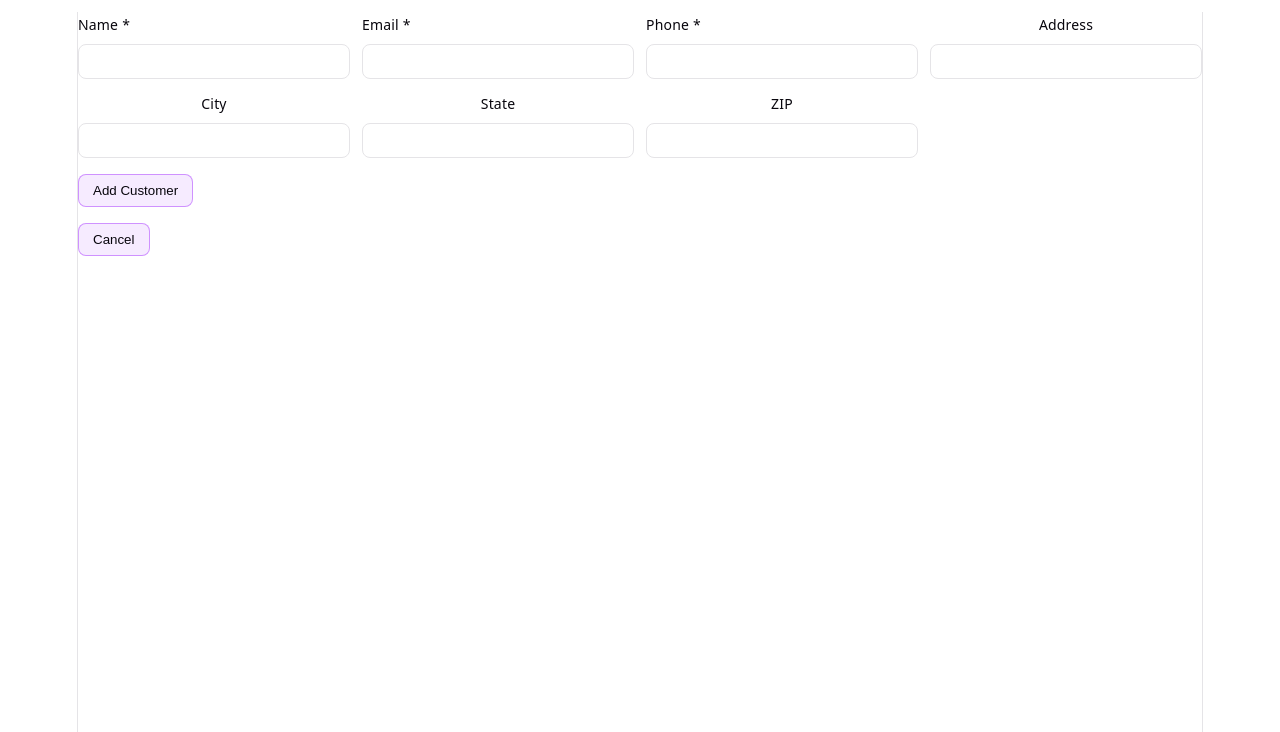
Scenario: CustomerForm › Name cannot contain numbers
In the field labelled "Name": (214, 62) x1=78 y1=44 x2=350 y2=79, type "Jane2"
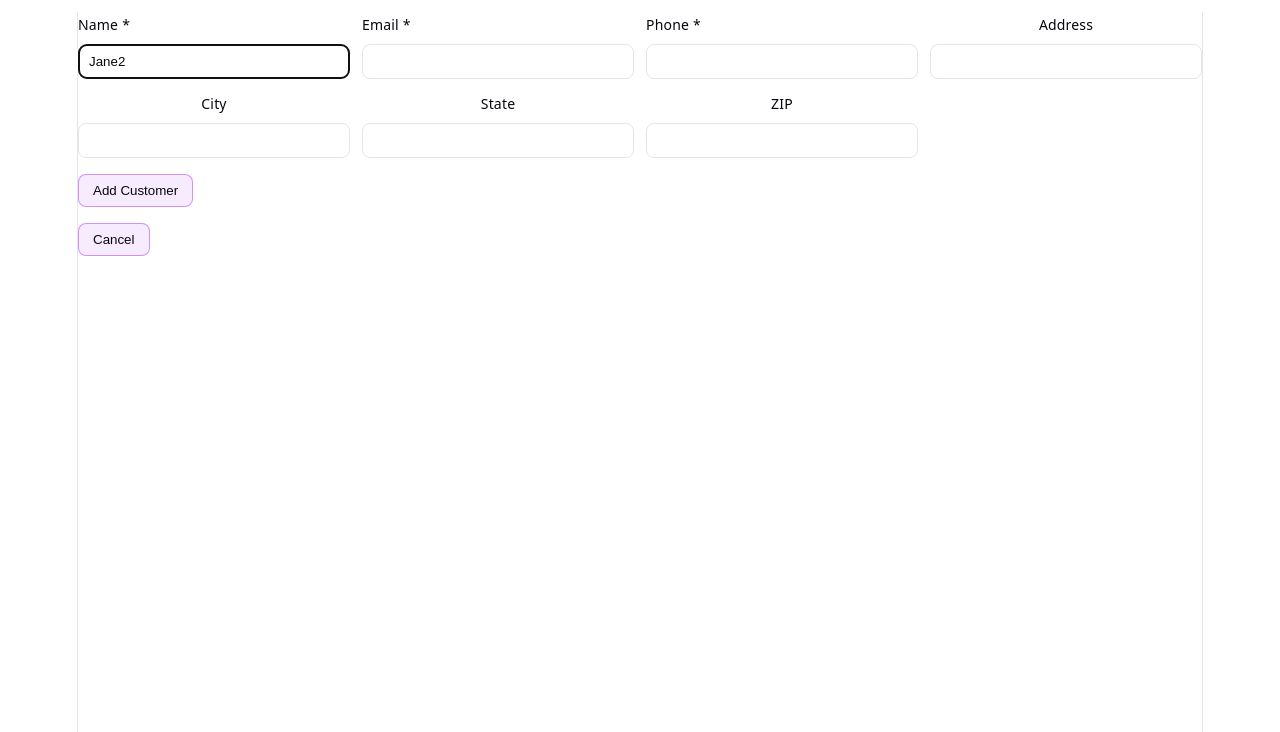
In the field labelled "Email": (498, 62) x1=362 y1=44 x2=634 y2=79, type "valid@example.com"
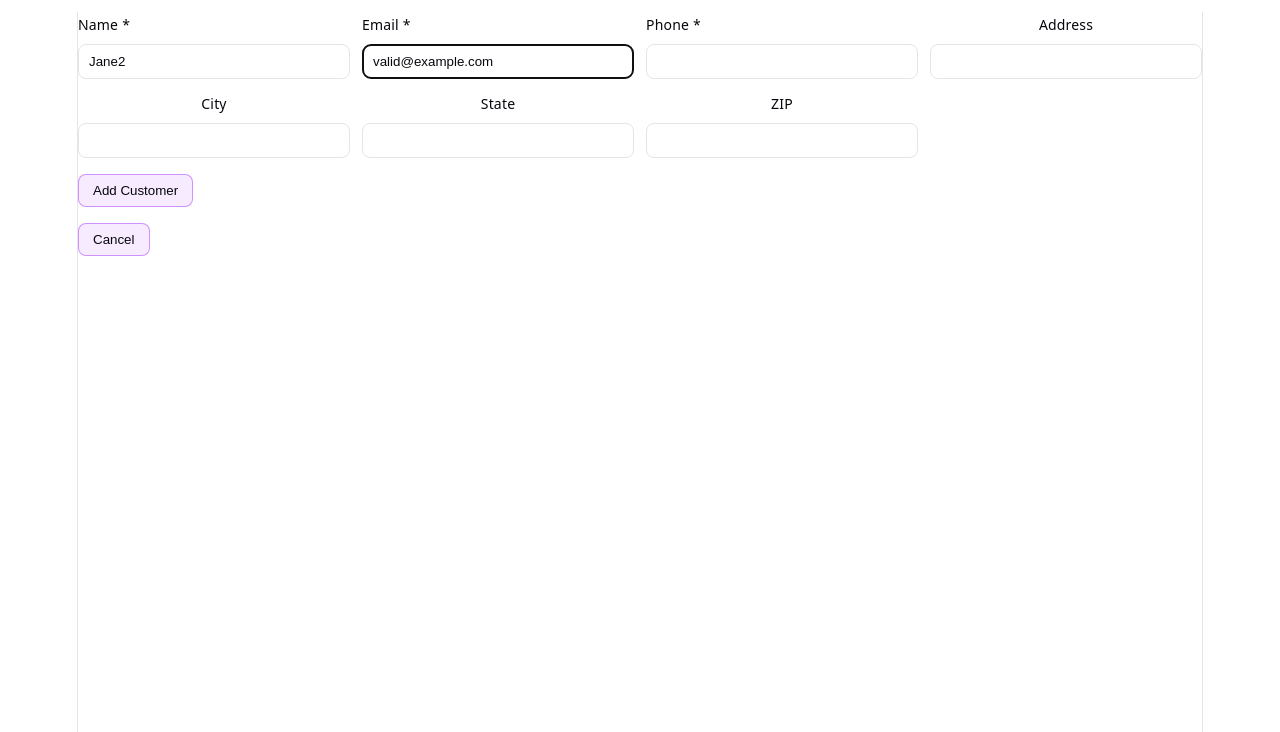
In the field labelled "Phone": (782, 62) x1=646 y1=44 x2=918 y2=79, type "555-123-4567"
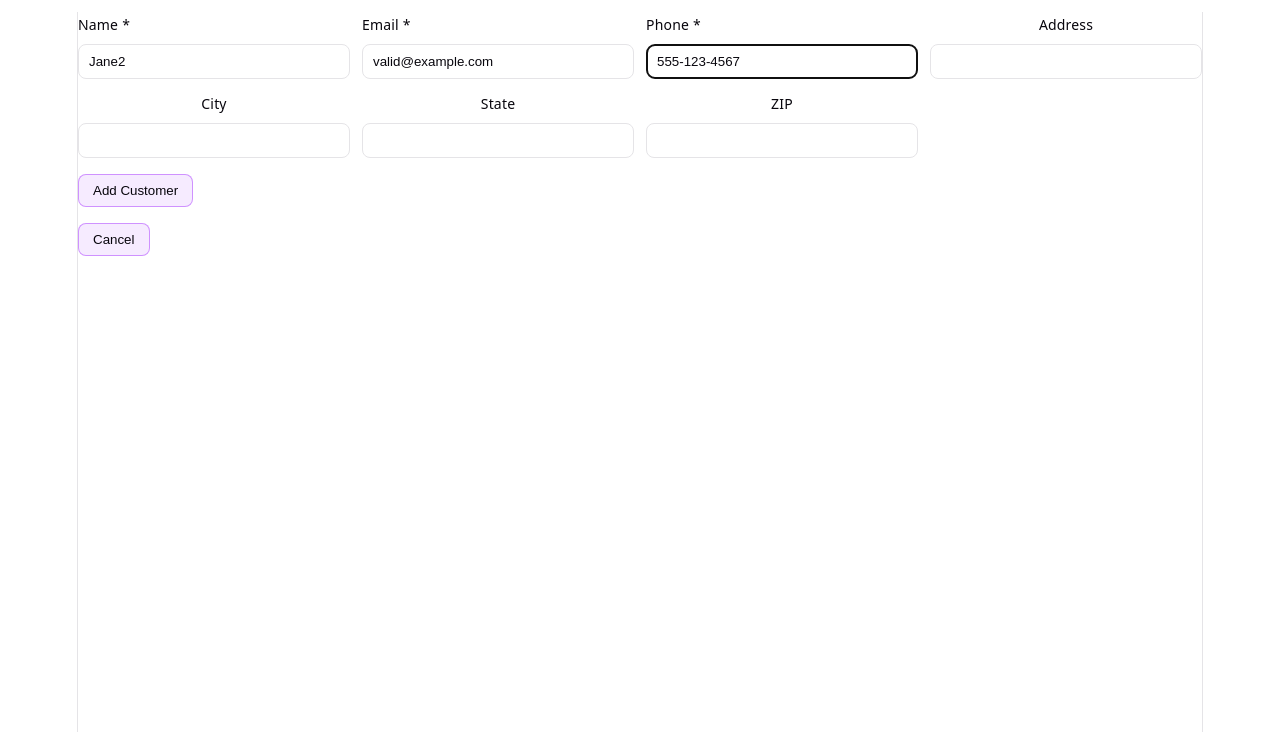
Click the button "Add Customer": (136, 191) x1=78 y1=174 x2=193 y2=207
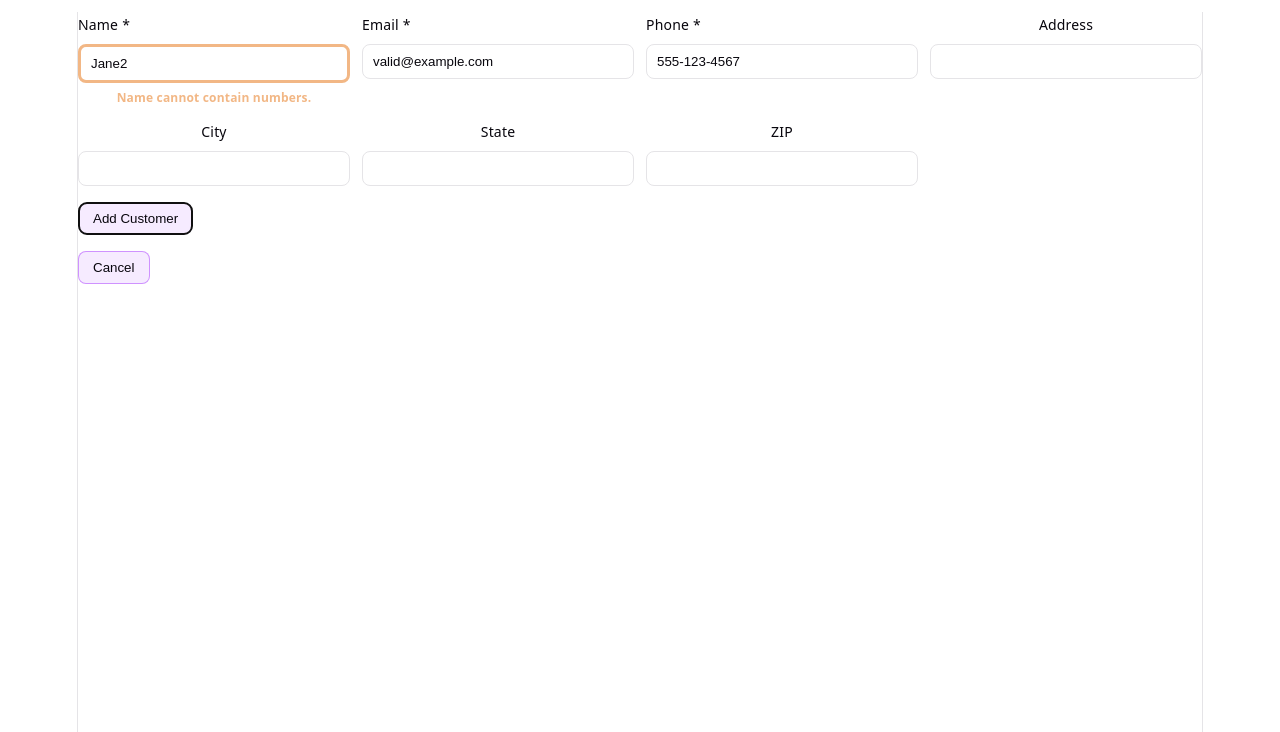
Expected: the text "Name cannot contain numbers." is shown, x1=117 y1=89 x2=311 y2=106
